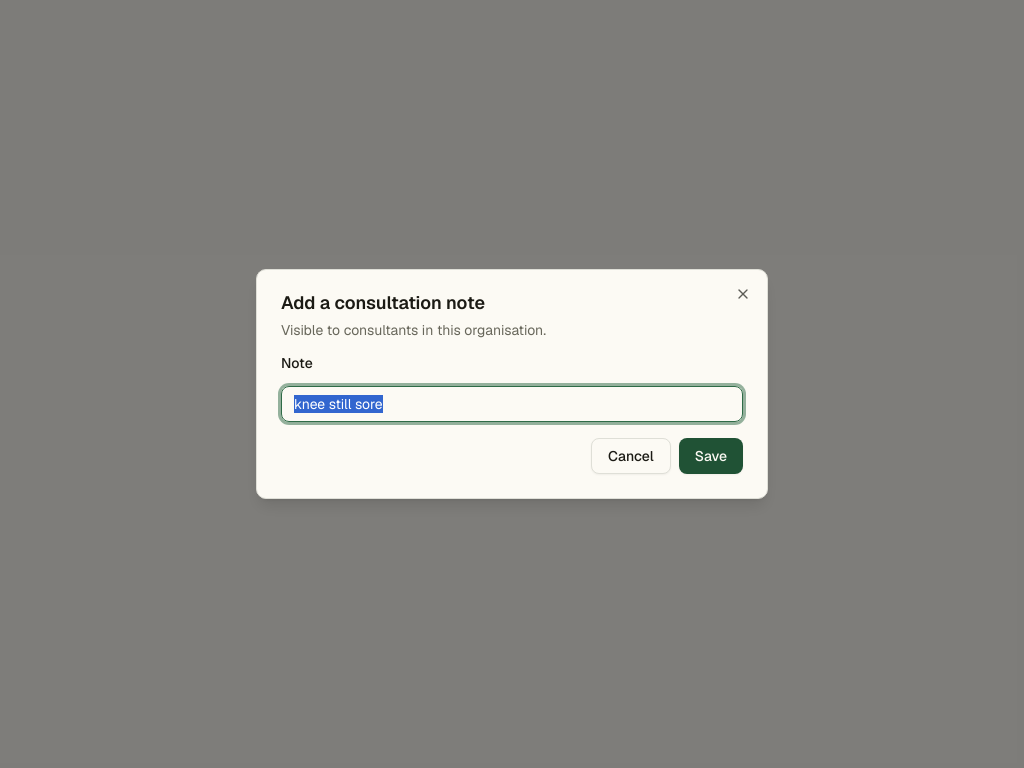
Test case: FormDialog — pending state › shows progress and disables both actions while in flight
Click the button "Save": (711, 456) [679,438,743,474]
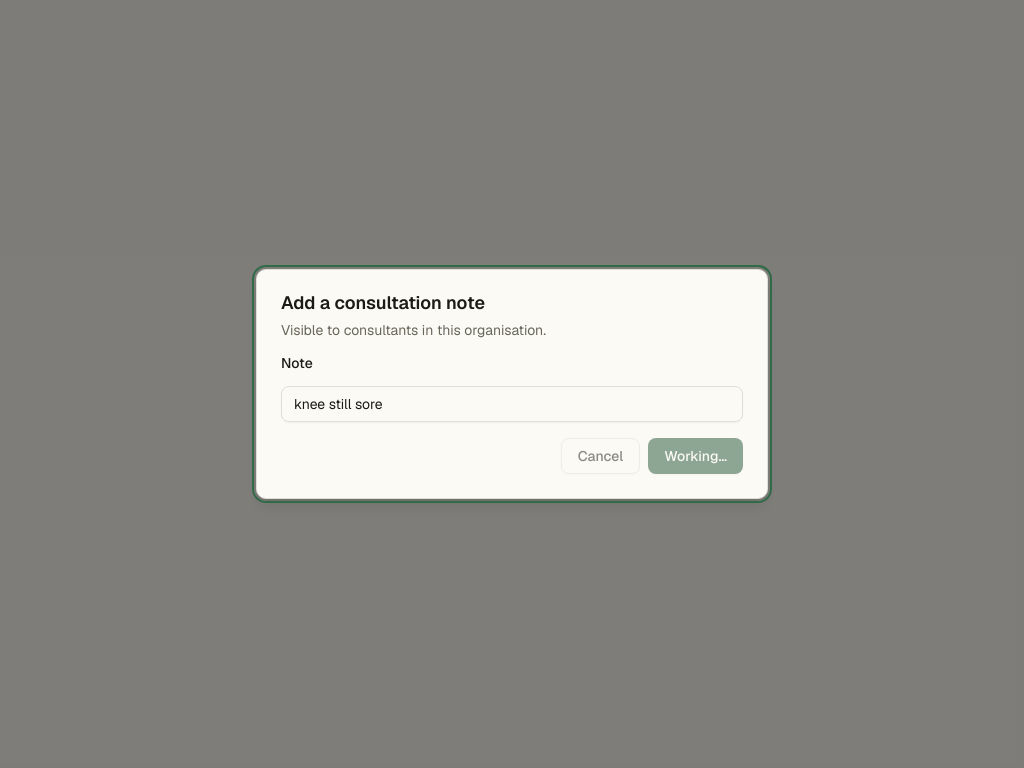
Now the button "Working…" is disabled, box [648,438,743,474]
Now the button "Cancel" is disabled, box [561,438,640,474]
